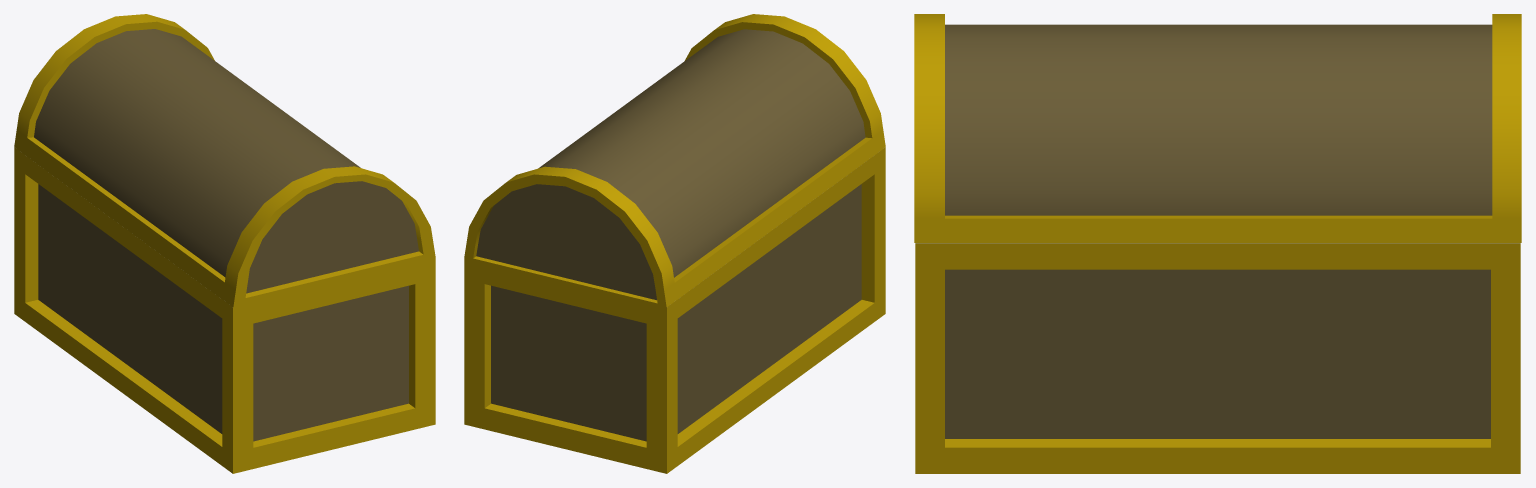
File: chest.fbx
3 renders of one model, left to right at view 1: azimuth 30°, elevation 25°; view 2: azimuth 150°, elevation 25°; view 3: azimuth 270°, elevation 25°, orthographic. The views are drawn at different scales.
Parts seen in each view (by area): view 1: pCube2; view 2: pCube2; view 3: pCube2.
Part boxes in pixels (bbox=[...]): pCube2: bbox=[14, 14, 435, 473]; pCube2: bbox=[464, 14, 885, 473]; pCube2: bbox=[914, 14, 1521, 473].
Size of the model in its own units: 5 by 6.43 by 9.37.
